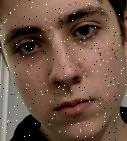without_mask: (2, 2, 127, 141)
